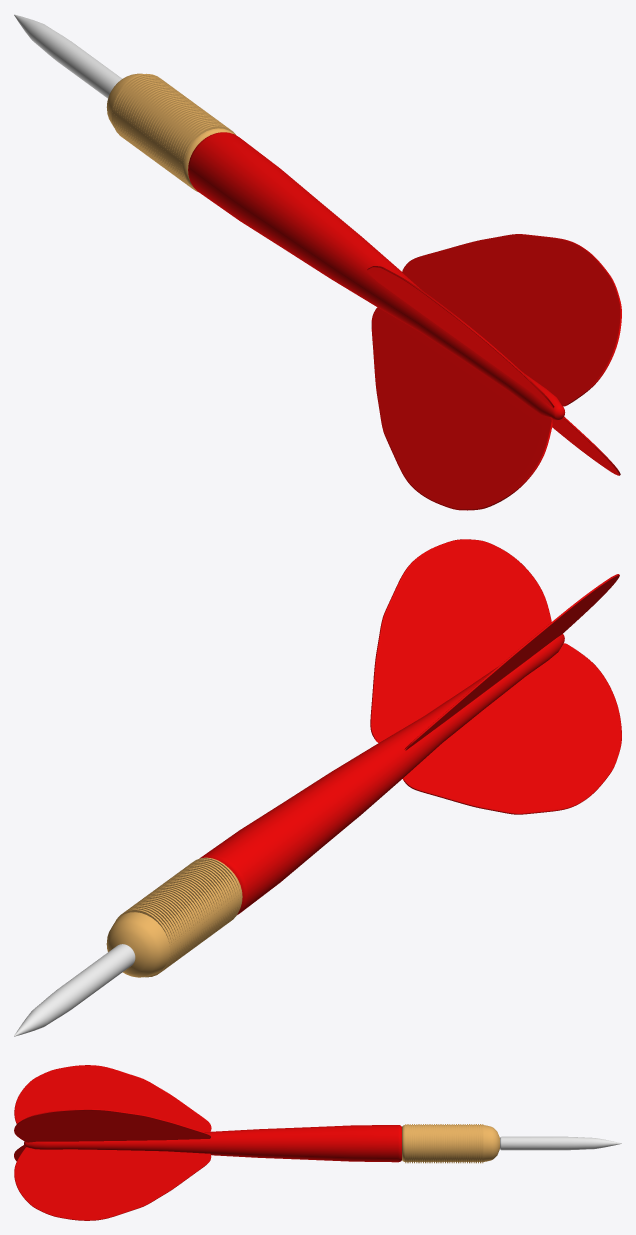
File: dart.glb
3 renders of one model, top to bottom at view 1: azimuth 30°, elevation 25°; view 2: azimuth 150°, elevation 25°; view 3: azimuth 270°, elevation 25°, orthographic. The views are drawn at different scales.
Visible parts, largest first — view 1: Cylinder, Cube, Cube.002, Cube.001, Cube.003; view 2: Cylinder, Cube.002, Cube, Cube.001; view 3: Cylinder, Cube.003, Cube.001, Cube.
Boxes of the visible parts, x1,y1,x2,y2 form: Cylinder: (14, 14, 565, 420); Cube: (402, 234, 621, 406); Cube.002: (371, 307, 552, 510); Cube.001: (367, 266, 554, 408); Cube.003: (552, 416, 620, 475); Cylinder: (14, 634, 564, 1036); Cube.002: (403, 643, 621, 814); Cube: (370, 539, 551, 742); Cube.001: (404, 574, 619, 750); Cylinder: (24, 1124, 621, 1163); Cube.003: (14, 1147, 211, 1220); Cube.001: (14, 1065, 211, 1132); Cube: (14, 1109, 210, 1142).
Size of the model in its own units: 0.76 by 0.8884 by 4.38.
